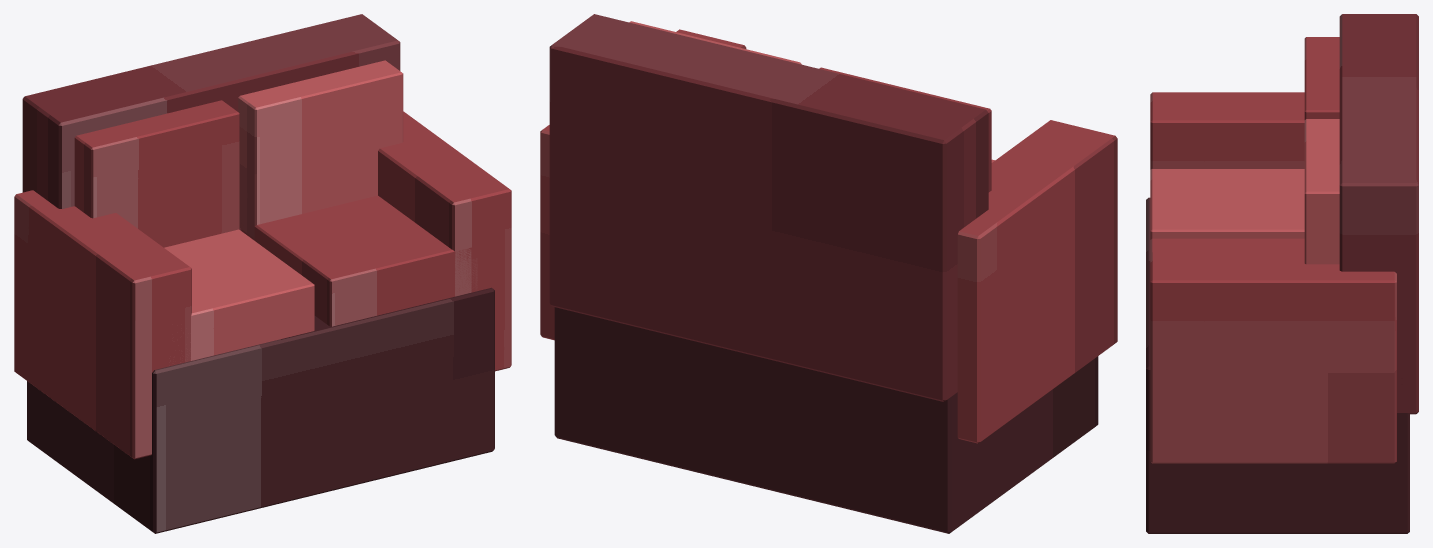
The model's file is lounge_couch_red.glb.
The picture shows the model from 3 angles, left to right: view 1: azimuth 30°, elevation 25°; view 2: azimuth 150°, elevation 25°; view 3: azimuth 270°, elevation 25°; orthographic projection. The views are drawn at different scales.
Visible parts, largest first — view 1: CouchBase, CouchArm_L, CouchBack, BackCushion_2, BackCushion_1, SeatCushion_2, CouchArm_R, SeatCushion_1; view 2: CouchBack, CouchBase, CouchArm_L, CouchArm_R, BackCushion_1; view 3: CouchArm_R, CouchBack, CouchBase, CouchArm_L, SeatCushion_1, BackCushion_2, BackCushion_1, SeatCushion_2.
Boxes of the visible parts, x1,y1,x2,y2 form: CouchBase: (27, 287, 494, 533); CouchArm_L: (14, 190, 191, 459); CouchBack: (22, 14, 400, 230); BackCushion_2: (238, 60, 403, 238); BackCushion_1: (74, 100, 239, 247); SeatCushion_2: (241, 195, 477, 326); CouchArm_R: (378, 111, 511, 371); SeatCushion_1: (164, 229, 314, 362); CouchBack: (549, 14, 988, 401); CouchBase: (554, 307, 1098, 533); CouchArm_L: (957, 120, 1117, 443); CouchArm_R: (540, 29, 746, 340); BackCushion_1: (819, 67, 991, 192); CouchArm_R: (1150, 252, 1396, 463); CouchBack: (1339, 14, 1418, 414); CouchBase: (1146, 197, 1409, 533); CouchArm_L: (1150, 92, 1304, 169); SeatCushion_1: (1150, 169, 1304, 239); BackCushion_2: (1304, 119, 1339, 264); BackCushion_1: (1304, 37, 1339, 119); SeatCushion_2: (1150, 238, 1304, 253).
Size of the model in its own units: 1.02 by 0.91 by 0.62.
Materials: 1 (1 with a texture image).
